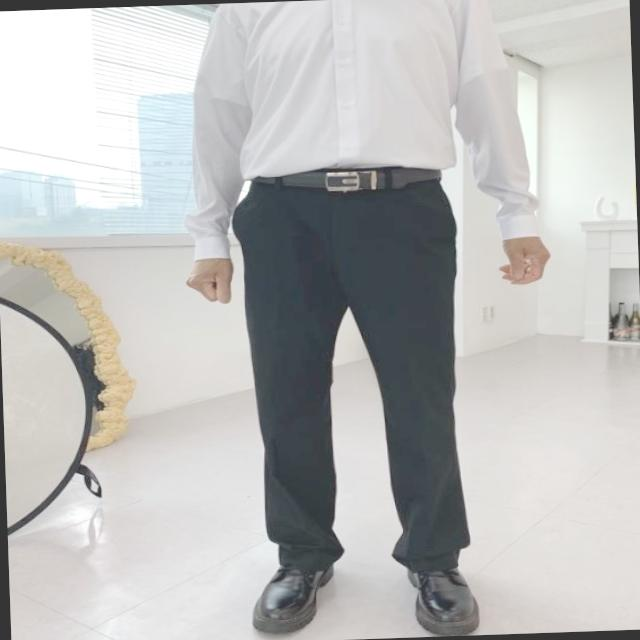shirt: (172, 0, 536, 258)
slacks: (235, 167, 474, 578)
